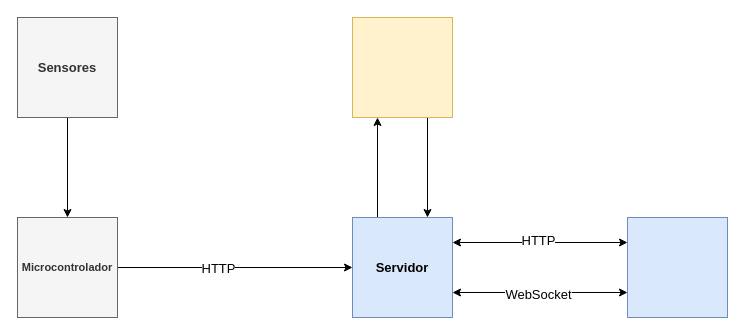
The diagram is 745 pixels wide and 335 high, and some of its shapes have lost their labels. Here are the shapes that lost their labels. From the top down, the box of each, then its label:
(352, 16, 452, 118): Banco de Dados
(626, 216, 728, 318): Cliente
